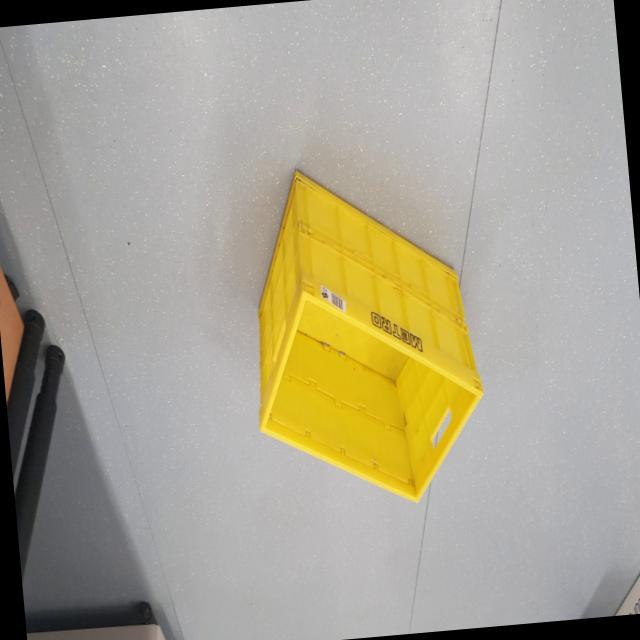box: (227, 150, 503, 524)
